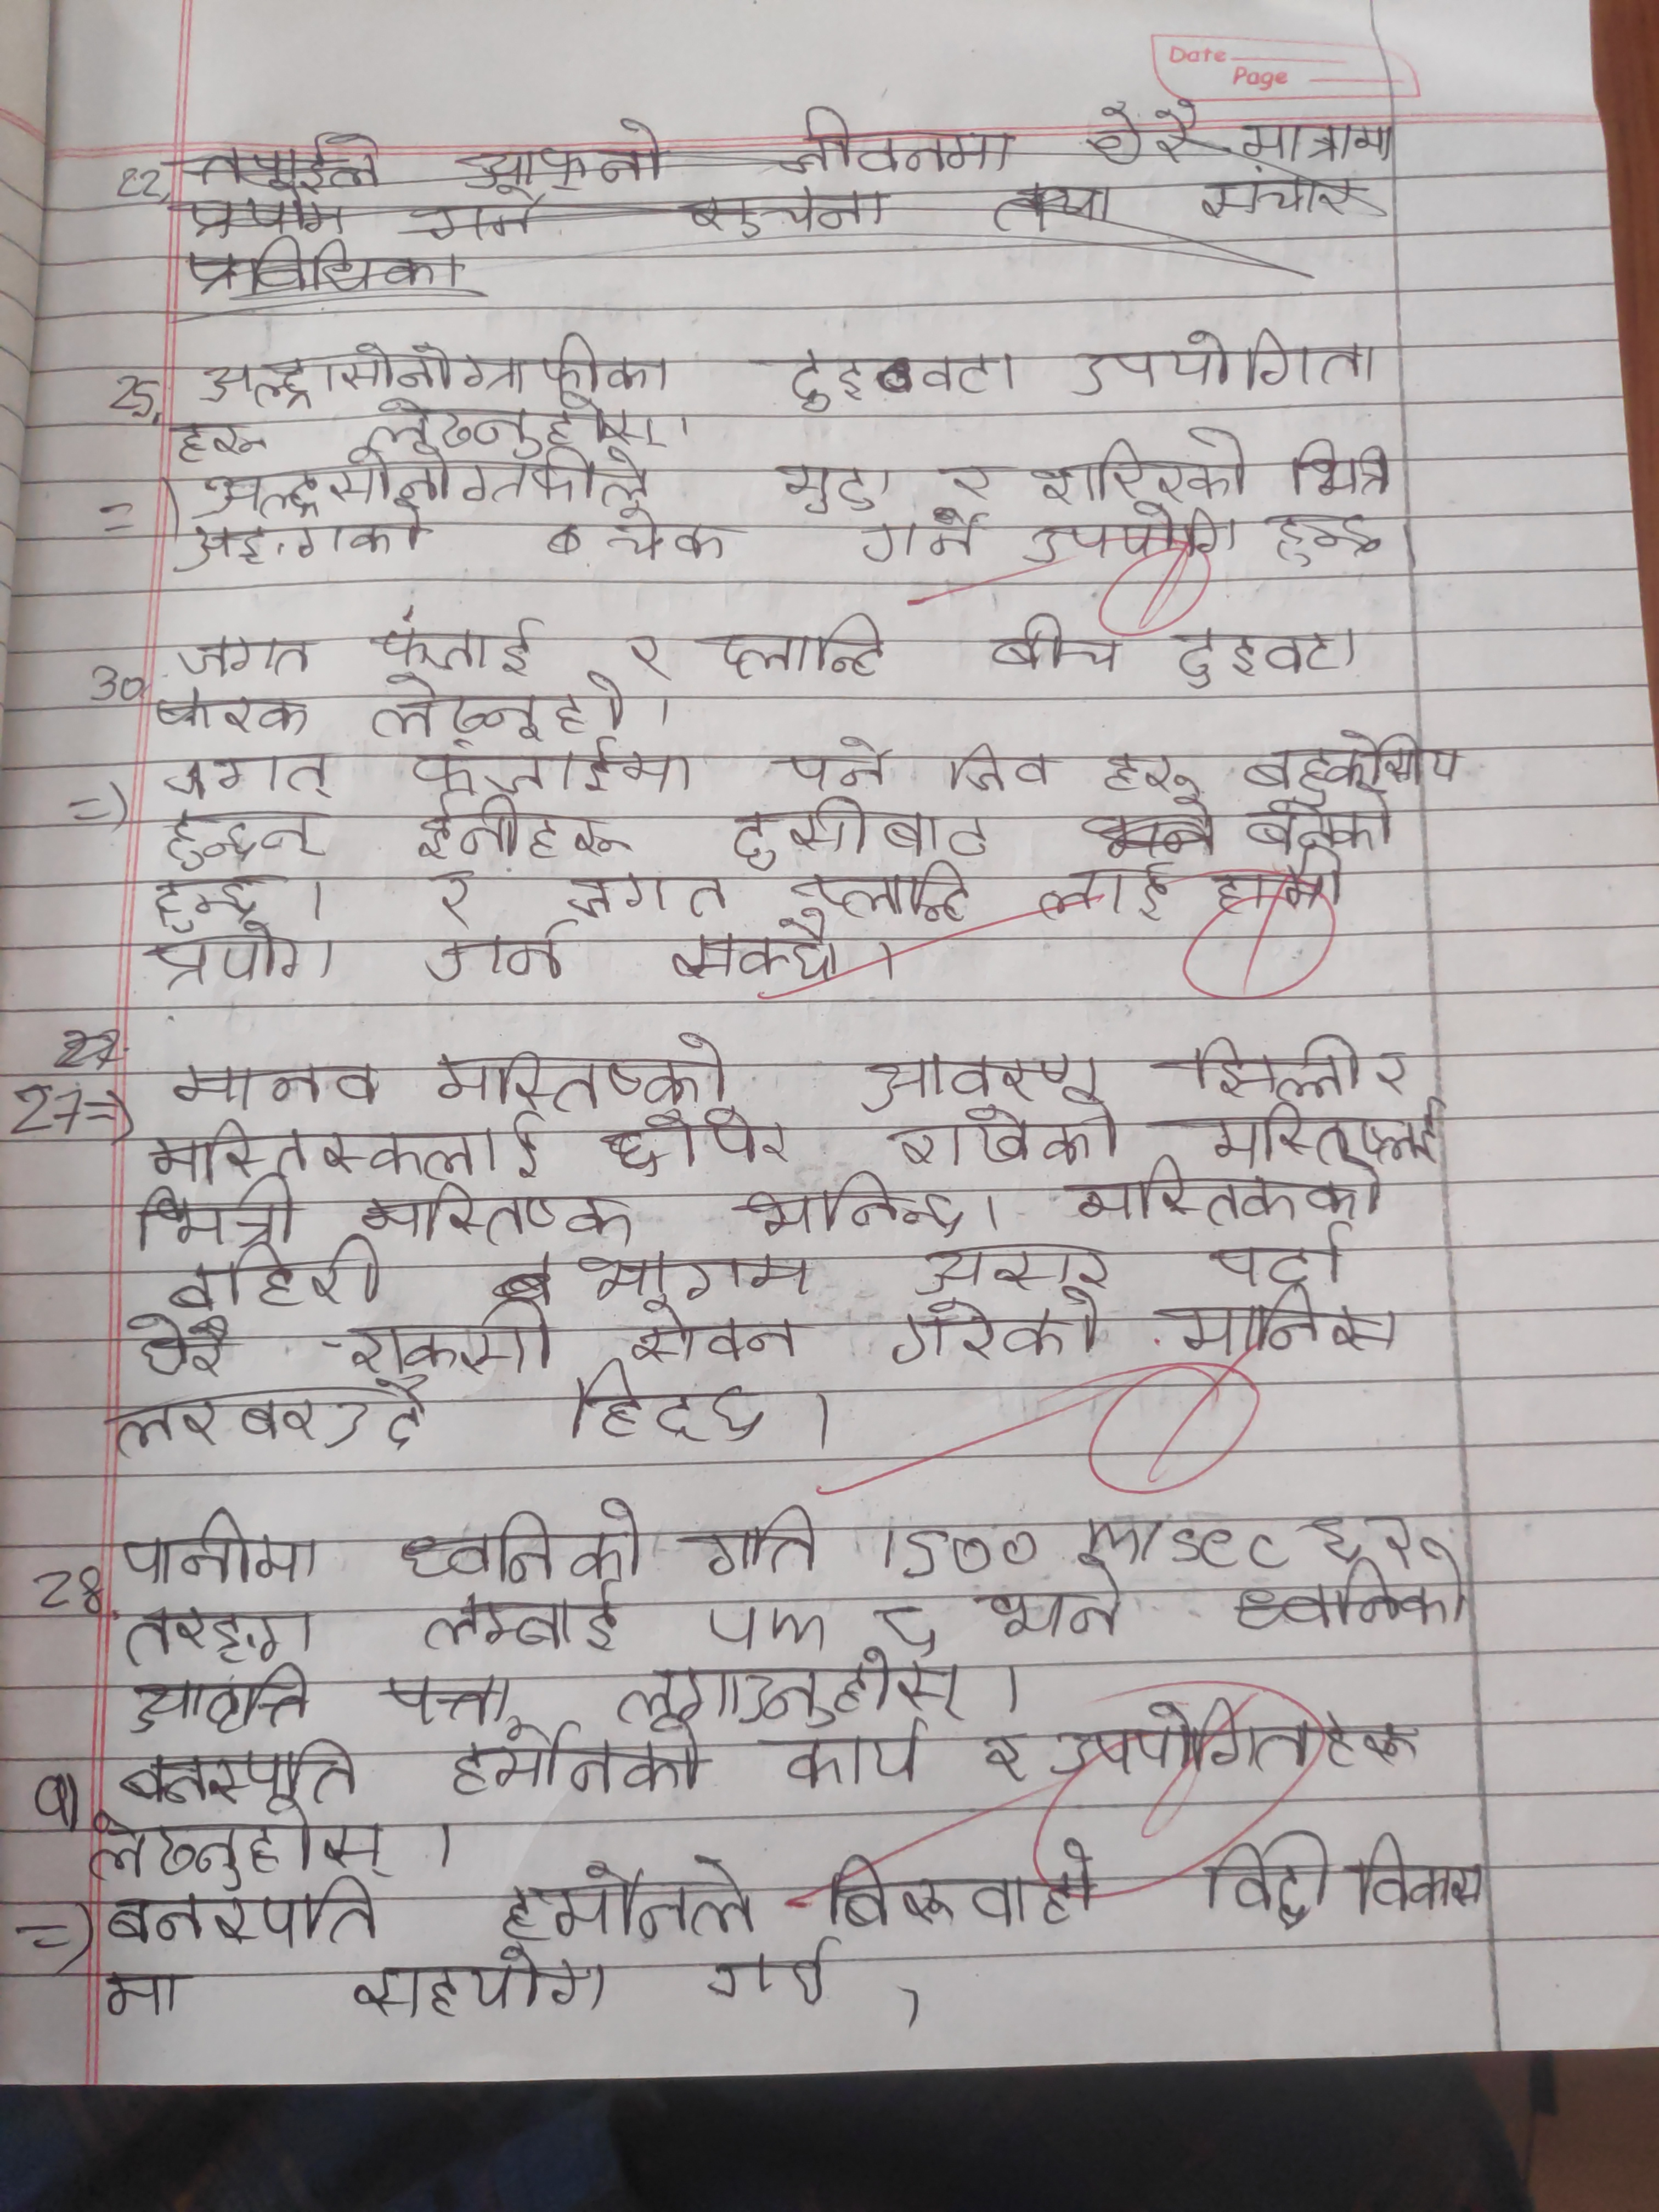text: (186, 334, 681, 404), (1049, 1696, 1420, 1778), (96, 1369, 437, 1458), (145, 1111, 552, 1183), (195, 453, 657, 516), (606, 1653, 978, 1730), (78, 1806, 396, 1888), (824, 1841, 1105, 1933), (430, 1031, 735, 1111), (1072, 320, 1387, 397), (502, 1857, 769, 1946), (437, 1723, 721, 1804), (389, 1498, 655, 1585), (1061, 1163, 1399, 1226), (727, 796, 1006, 871), (338, 1952, 617, 2024), (361, 672, 638, 742), (368, 392, 673, 455), (1028, 423, 1253, 507), (565, 1359, 772, 1449), (885, 1291, 1117, 1369), (113, 1735, 366, 1806), (124, 1507, 328, 1594), (396, 738, 699, 796), (101, 1888, 394, 1947), (366, 1186, 645, 1247), (338, 1305, 558, 1381), (884, 1104, 1140, 1169), (1166, 1294, 1405, 1362), (1239, 730, 1473, 798), (406, 794, 627, 866), (1032, 503, 1244, 575), (746, 1172, 967, 1240), (1208, 1103, 1448, 1163), (1197, 1831, 1338, 1932), (976, 1559, 1136, 1648), (854, 1052, 1101, 1109), (666, 914, 854, 989), (408, 1590, 633, 1653), (708, 610, 890, 686), (176, 1249, 399, 1312), (124, 1665, 310, 1740), (1161, 620, 1361, 690), (124, 1174, 298, 1252), (181, 517, 427, 571), (1356, 1824, 1483, 1926), (1176, 1028, 1363, 1097), (599, 1109, 788, 1176), (803, 859, 979, 928), (164, 1061, 380, 1116), (627, 1296, 809, 1362), (572, 1249, 817, 1298), (141, 930, 343, 989), (775, 1716, 931, 1792), (119, 1611, 321, 1669), (690, 1507, 831, 1587), (988, 604, 1136, 679), (1201, 1226, 1363, 1292), (376, 615, 545, 678), (169, 744, 340, 805), (1033, 859, 1173, 930), (416, 930, 577, 991), (1244, 792, 1399, 855), (376, 1663, 516, 1733), (692, 1942, 835, 2008), (157, 813, 322, 869), (563, 867, 737, 920), (917, 1249, 1121, 1291), (125, 1308, 232, 1381), (1286, 434, 1399, 500), (606, 507, 732, 566), (769, 456, 894, 516), (150, 693, 312, 738), (94, 1958, 202, 2026), (779, 341, 875, 416), (1269, 512, 1394, 568), (946, 737, 1063, 796), (861, 514, 976, 573), (173, 637, 315, 683), (148, 869, 258, 927), (786, 737, 890, 796), (162, 415, 272, 465), (403, 869, 491, 930), (1108, 744, 1204, 799), (918, 354, 1026, 397), (1309, 1505, 1370, 1564), (1368, 1038, 1419, 1104), (612, 629, 671, 685), (978, 1726, 1028, 1789), (941, 455, 992, 507)
